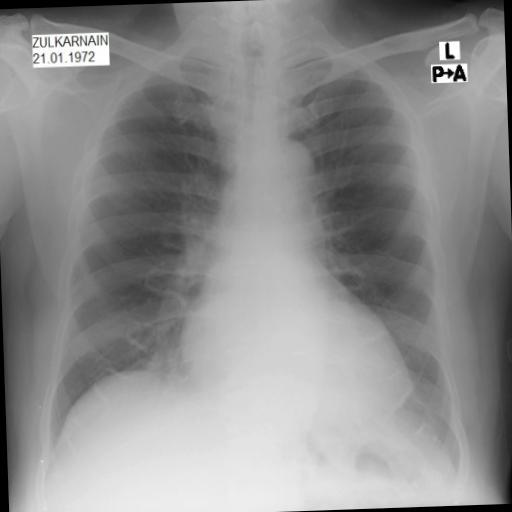kardiomegali: (166, 242, 422, 436)
